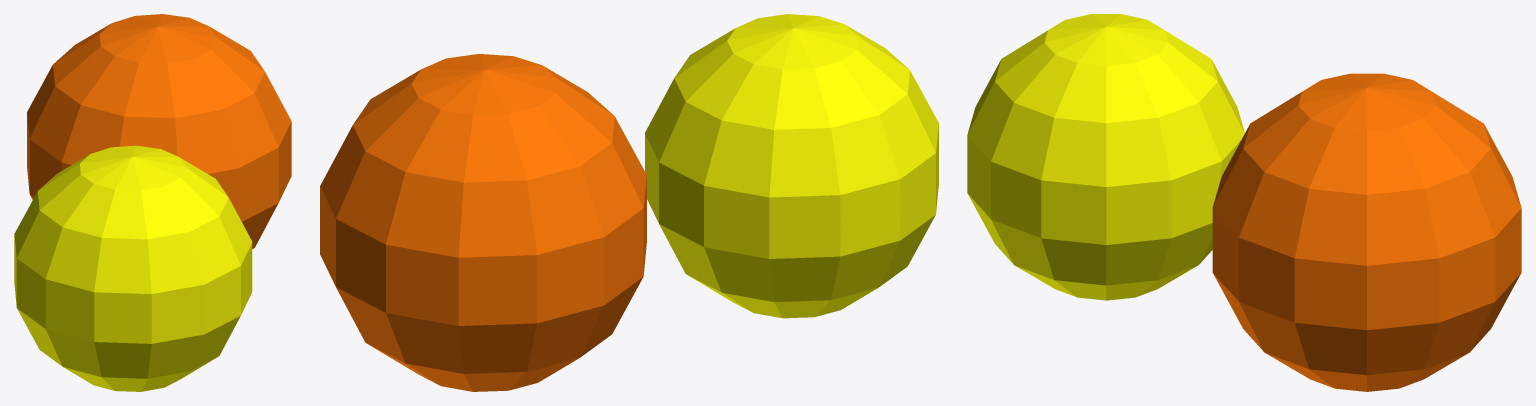
The model's file is orange1.glb.
The picture shows the model from 3 angles, left to right: view 1: azimuth 30°, elevation 25°; view 2: azimuth 150°, elevation 25°; view 3: azimuth 270°, elevation 25°; orthographic projection. The views are drawn at different scales.
Size of the model in its own units: 0.4778 by 0.32 by 0.5554.
